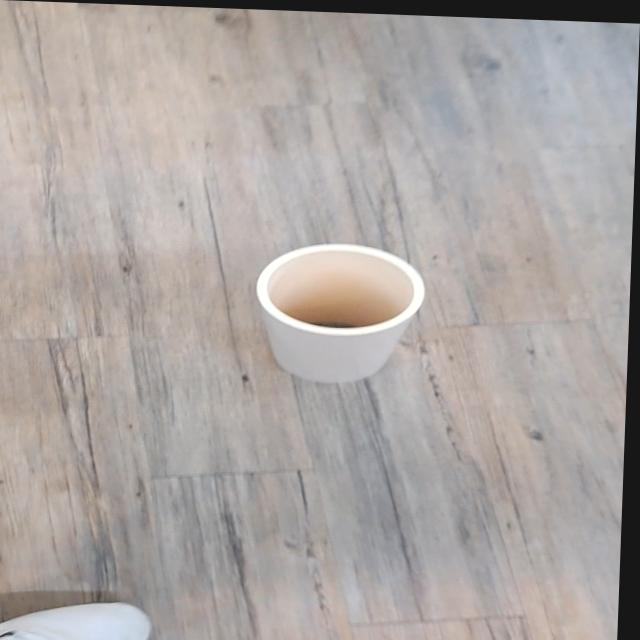CORAL: (226, 222, 444, 412)
